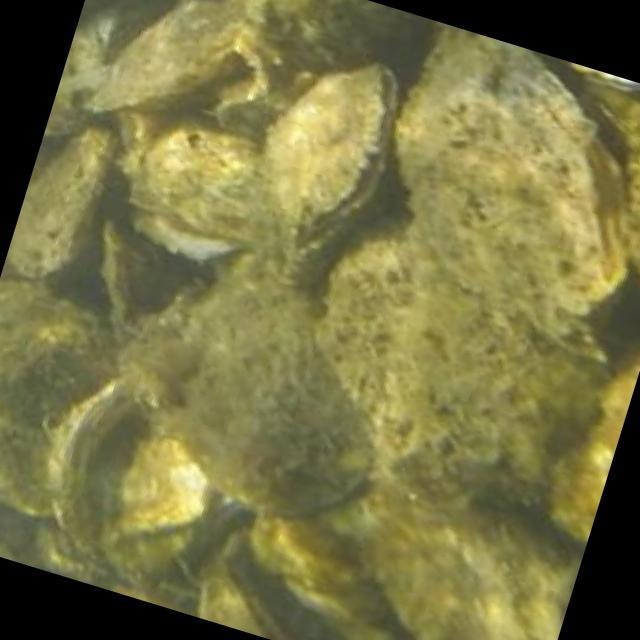Oyster- Indeterminate: (248, 195, 618, 553), (124, 232, 393, 546), (324, 462, 593, 640), (218, 0, 436, 139), (0, 281, 114, 514), (121, 119, 261, 262), (85, 428, 213, 544), (0, 530, 48, 582), (114, 105, 157, 153)
Oyster-Closed: (201, 32, 439, 286), (0, 117, 143, 291), (64, 216, 210, 365), (31, 365, 136, 541), (573, 77, 640, 298), (189, 549, 314, 640)
